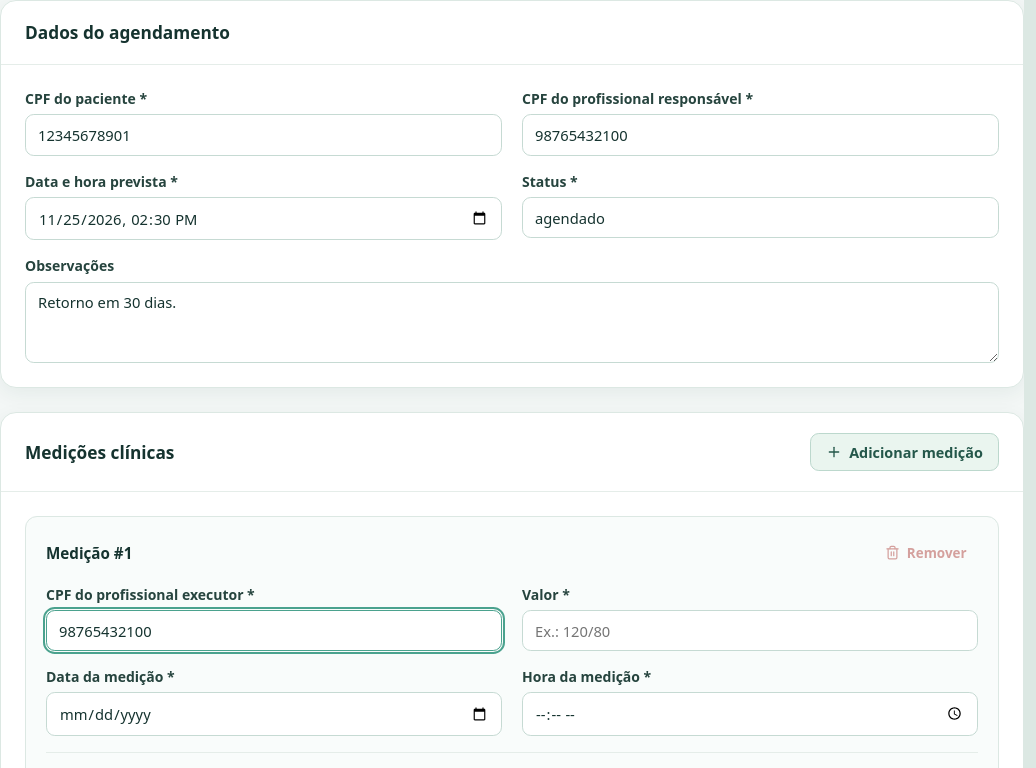
RealizarAgendamento › inclui observacoes no payload quando preenchida
Earlier steps of the test are not shown.
In the field labelled "Valor *": coordinates (750, 630) [522,610,978,651], type "120/80"
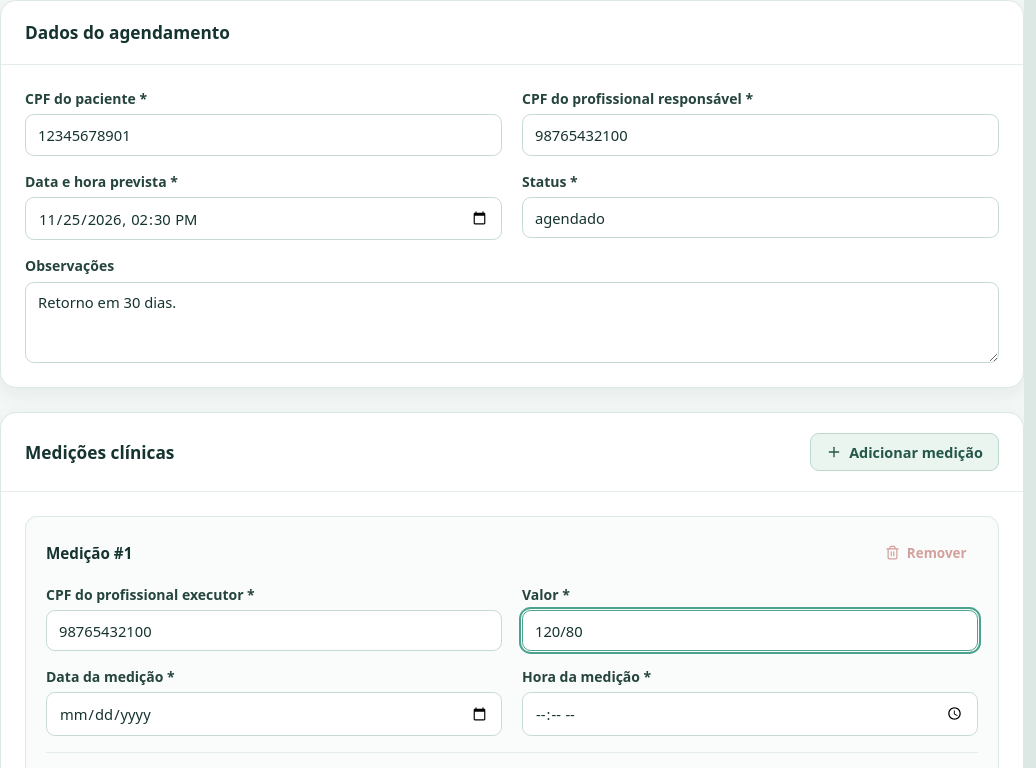
In the date field labelled "Data da medição *": coordinates (274, 714) [46,692,502,736], type "2026-11-25"
In the time field labelled "Hora da medição *": coordinates (750, 714) [522,692,978,736], type "14:45"
(page scrolled)
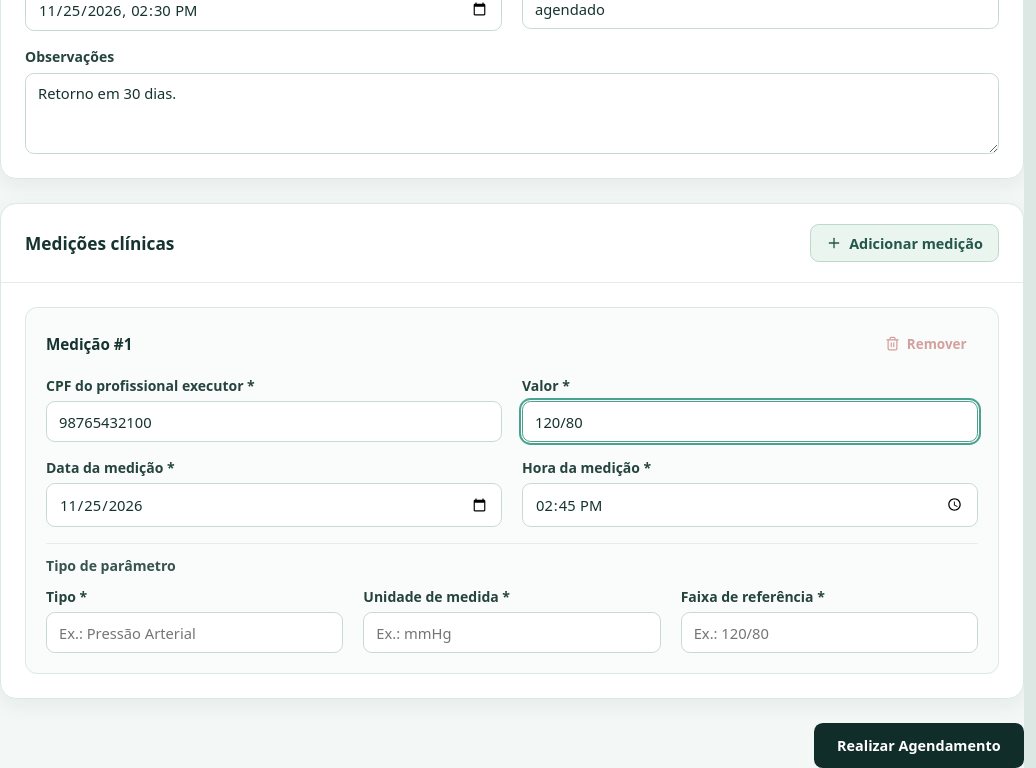
In the field labelled "Tipo *": coordinates (195, 633) [46,612,343,653], type "Pressão Arterial"
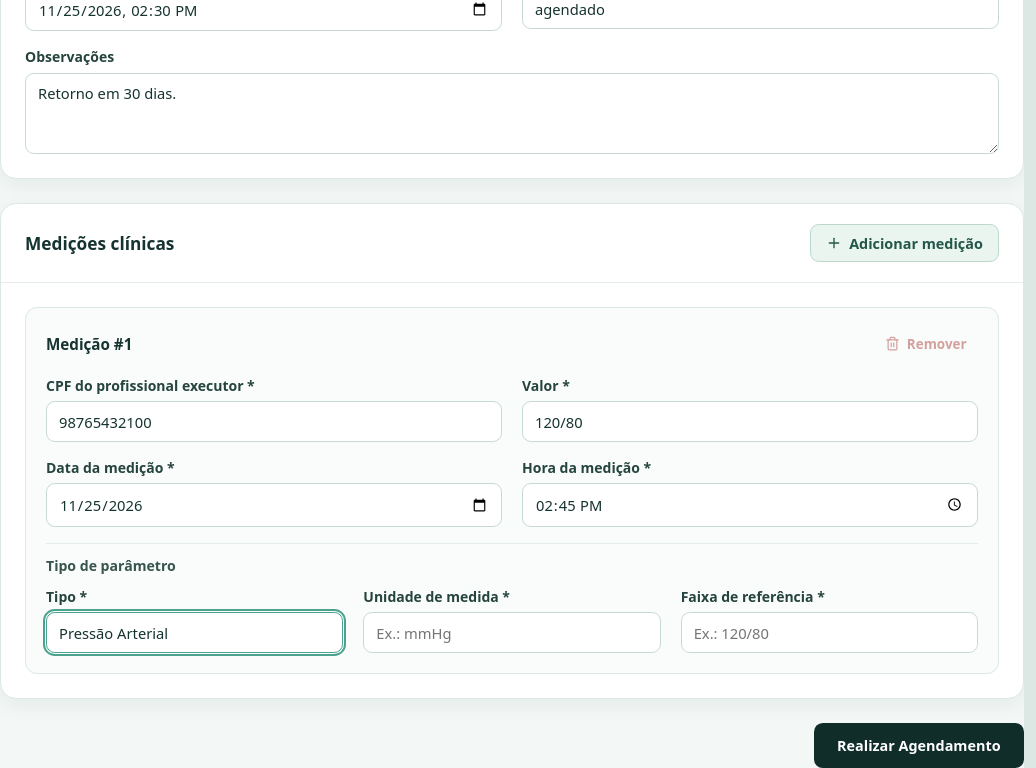
In the field labelled "Unidade de medida *": coordinates (512, 633) [363,612,661,653], type "mmHg"
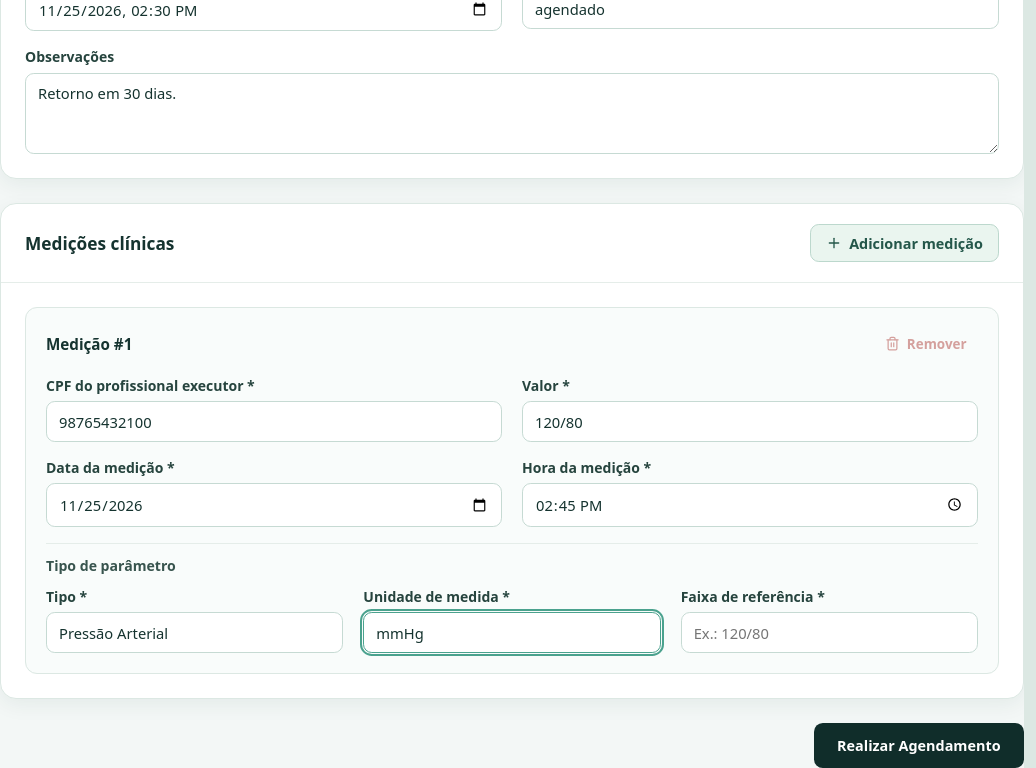
In the field labelled "Faixa de referência *": coordinates (829, 633) [681,612,978,653], type "120/80"
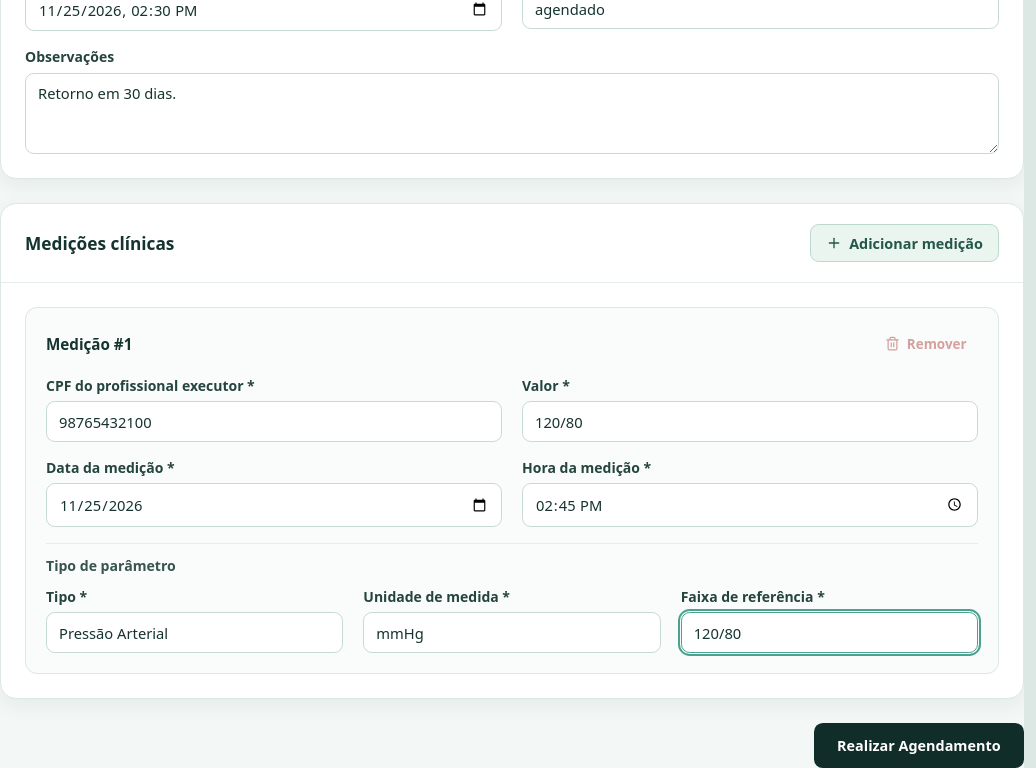
Click the button "Realizar Agendamento": coordinates (919, 746) [814,723,1024,767]
(page scrolled)
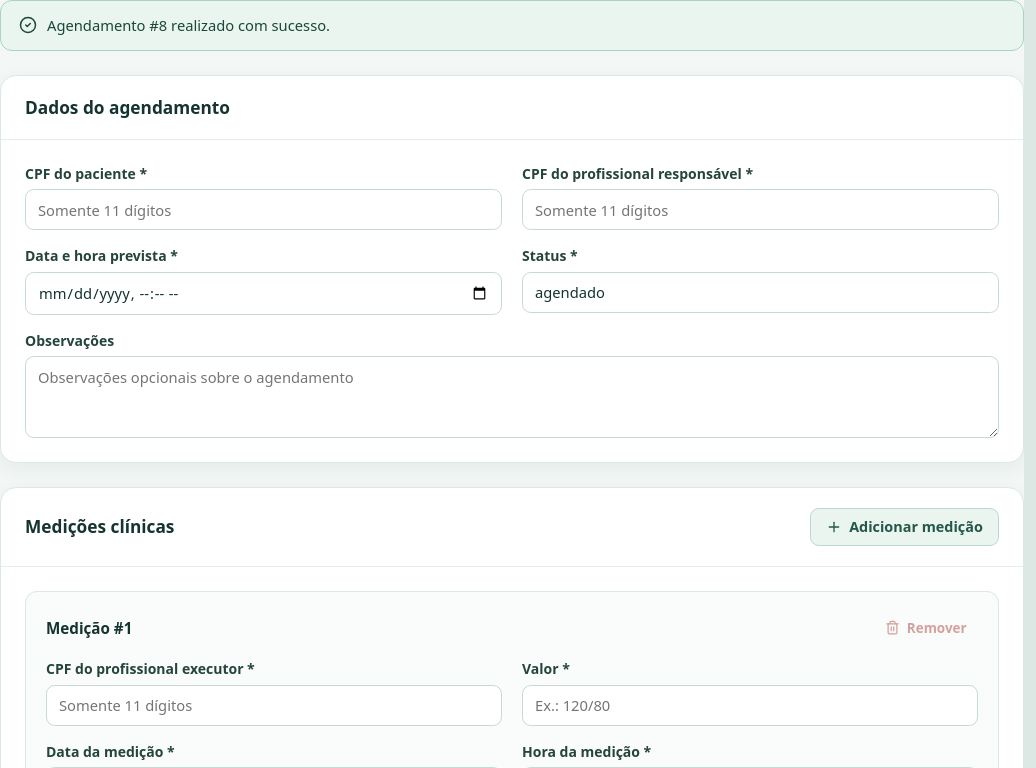
Result: the message reads "Agendamento #8 realizado com sucesso." at [47,15,330,35]
